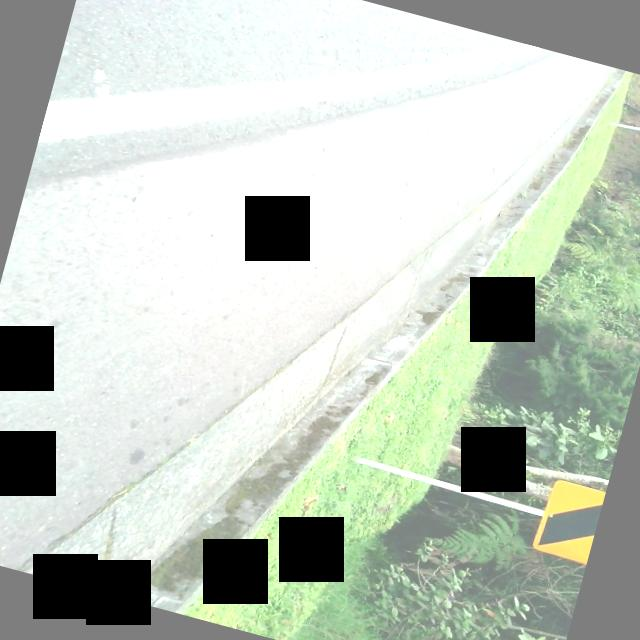DITCH: (0, 0, 624, 640), (0, 18, 640, 640)
